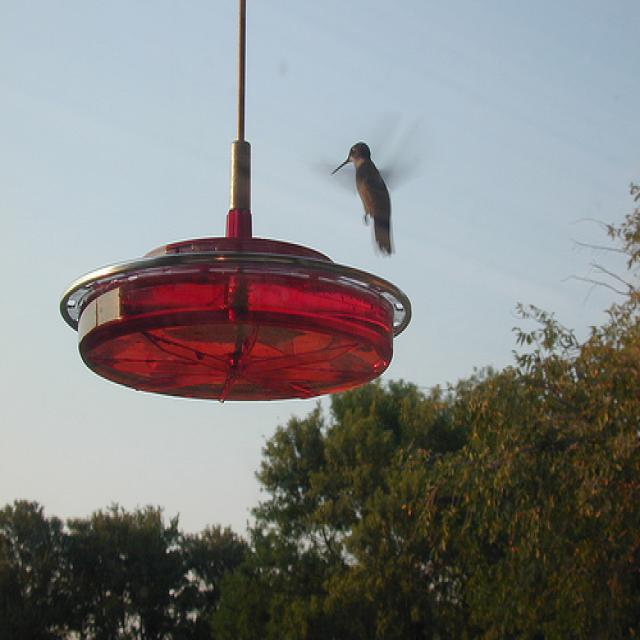bird: (312, 114, 418, 255)
